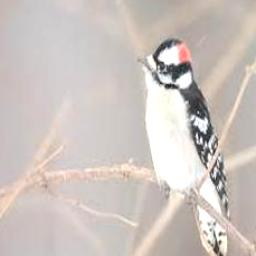Woodpecker: (138, 38, 230, 256)
